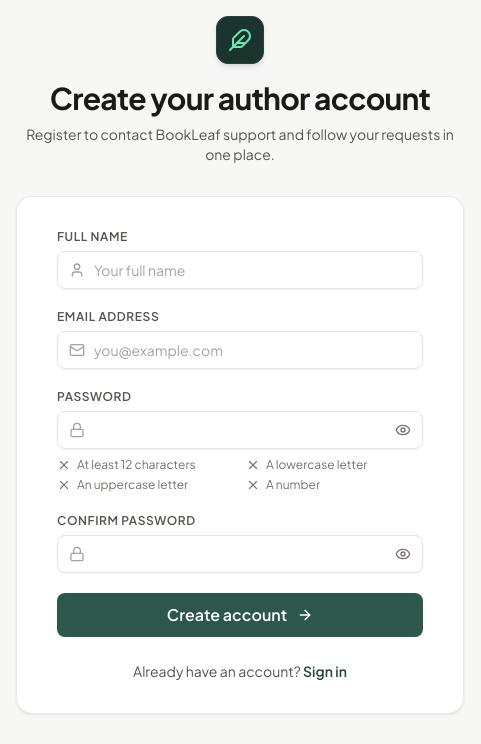
Scenario: RegisterPage › rejects a password without a number locally
The width and height of the screenshot is (481, 744).
Type "Asha Verma" into the field labelled "Full name" at (240, 270), box [57,251,423,289]
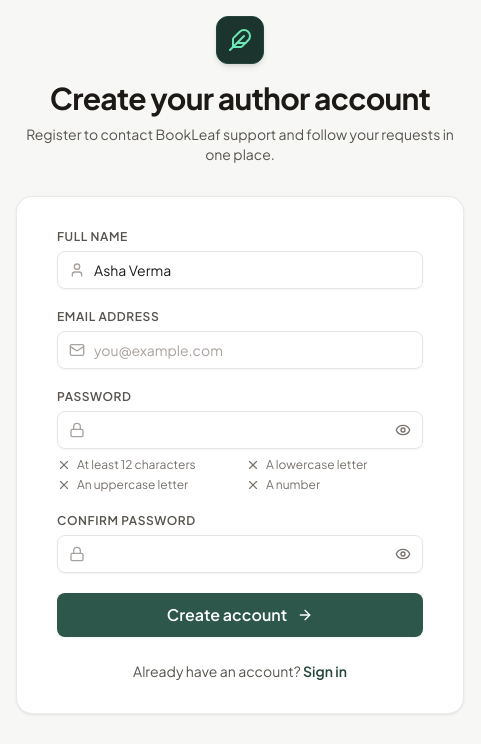
Type "  Asha@Writers.test " into the field labelled "Email address" at (240, 350), box [57,331,423,369]
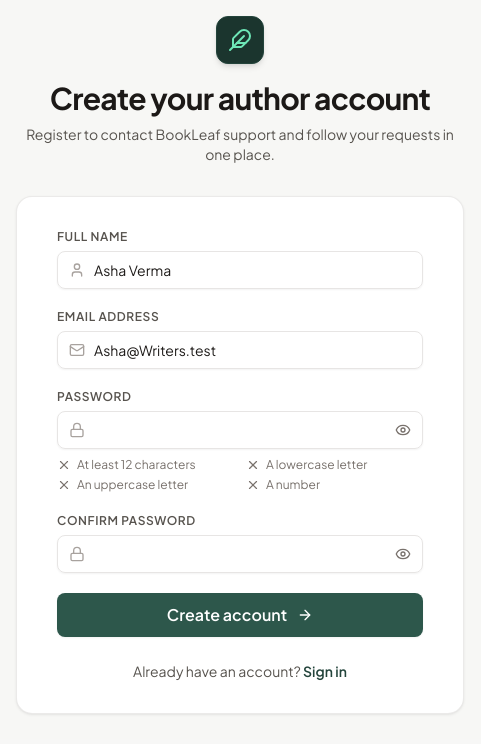
Type "NoDigitsInThisOne" into the password field labelled "Password" at (240, 430), box [57,411,423,449]
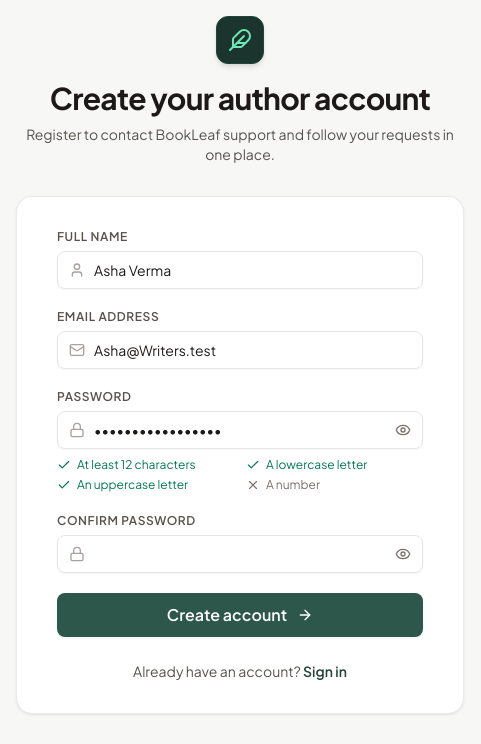
Type "NoDigitsInThisOne" into the password field labelled "Confirm password" at (240, 554), box [57,535,423,573]
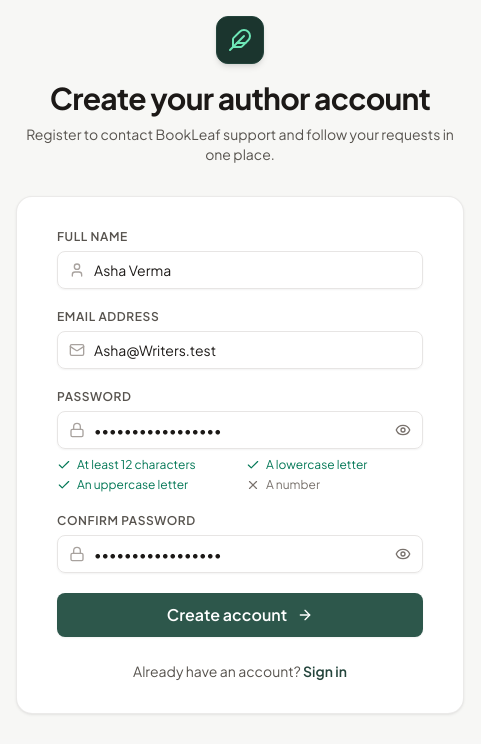
Click the button "Create account" at (240, 615), box [57,593,423,637]
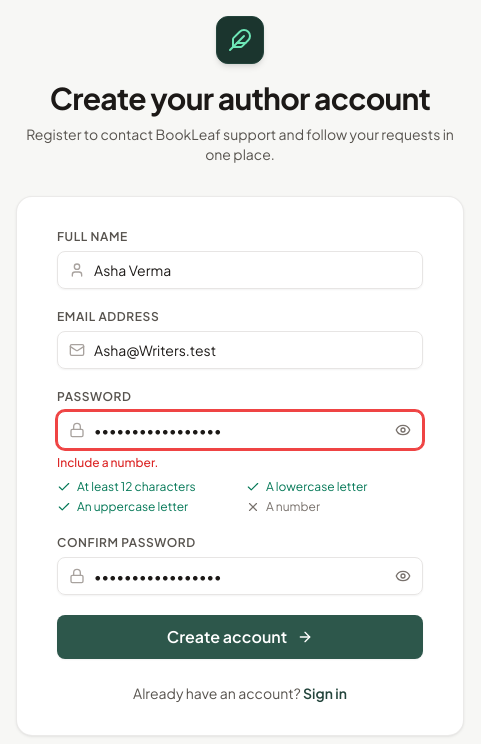
Expected: the text "Include a number." is shown, [57,455,158,470]
